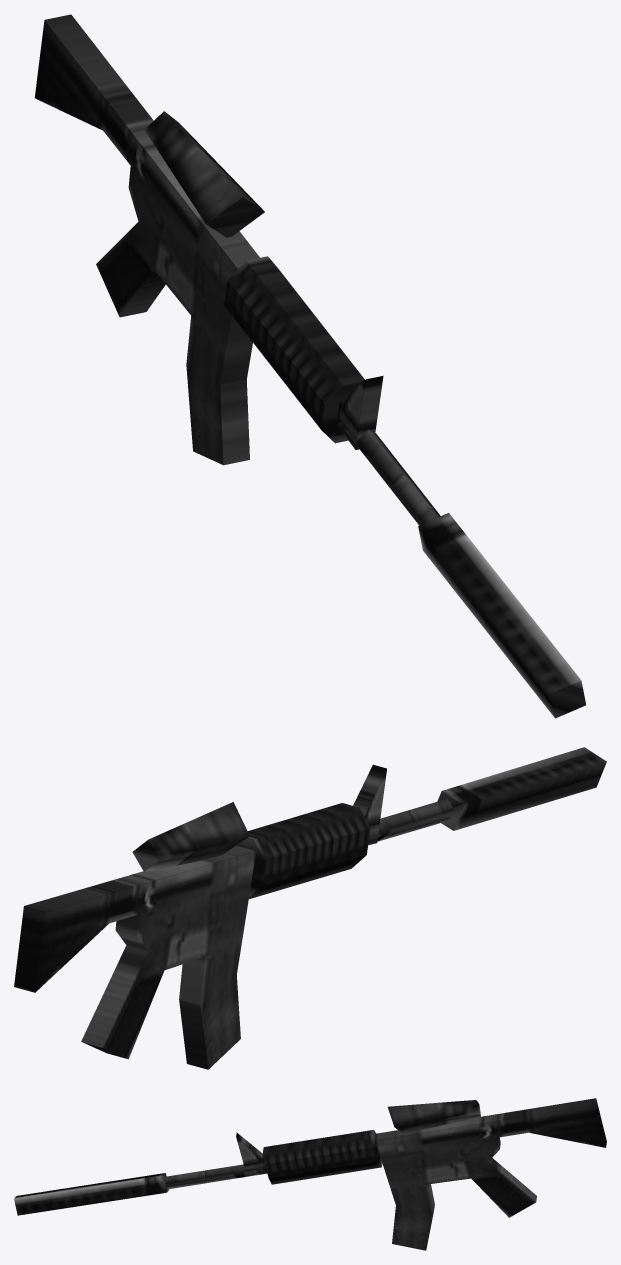
The model's file is m4a1-world.glb.
3 renders of one model, top to bottom at view 1: azimuth 30°, elevation 25°; view 2: azimuth 150°, elevation 25°; view 3: azimuth 270°, elevation 25°, orthographic. The views are drawn at different scales.
Visible parts, largest first — view 1: m4a1 held.001; view 2: m4a1 held.001; view 3: m4a1 held.001.
Part boxes in pixels (left/top/right/bottom): m4a1 held.001: left=34, top=14, right=585, bottom=718; m4a1 held.001: left=14, top=747, right=606, bottom=1069; m4a1 held.001: left=14, top=1098, right=606, bottom=1250.
Size of the model in its own units: 0.0978 by 0.2814 by 0.9995.
1 material, 1 textured.
